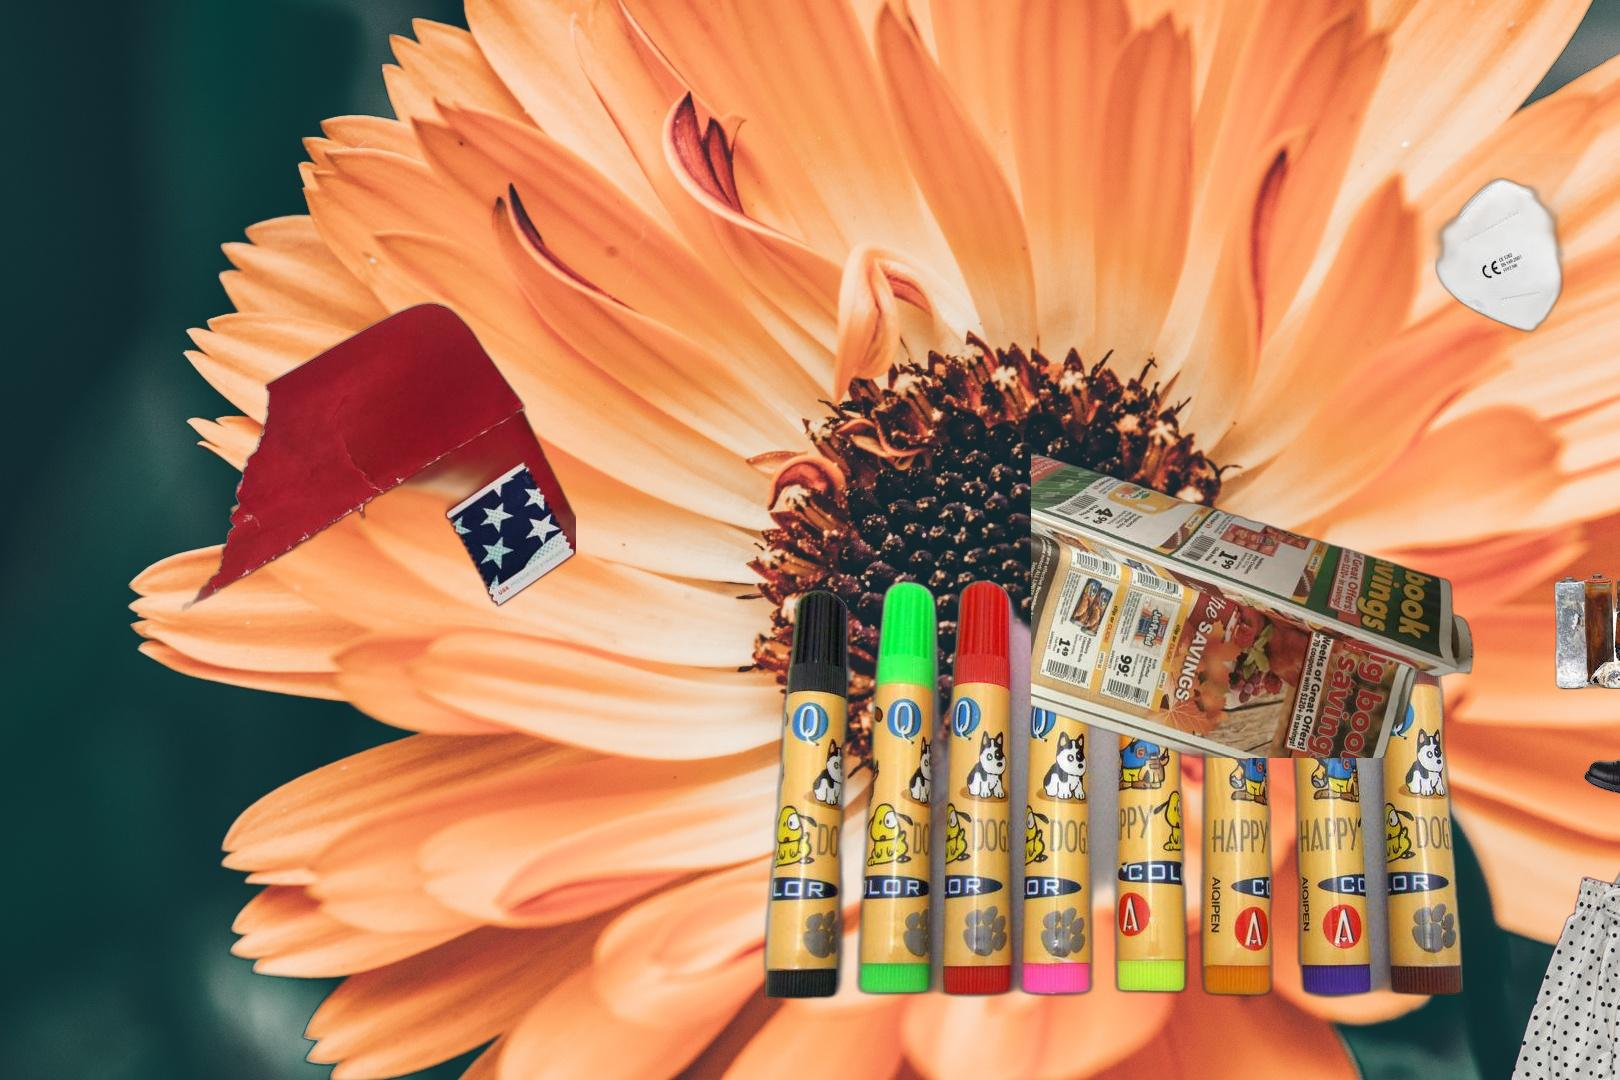battery: (1551, 568, 1620, 692)
clothes: (1480, 867, 1620, 1080)
metal-cans: (1598, 840, 1620, 1003)
paper: (64, 300, 576, 653), (1031, 448, 1478, 758)
penholder: (758, 571, 1471, 1003)
shoes: (1581, 679, 1620, 796)
trash: (1374, 153, 1581, 336)
